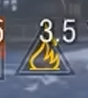1fire: (12, 44, 80, 81)
